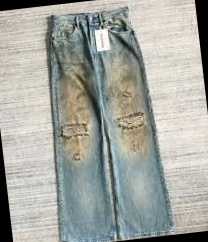earth: (56, 64, 97, 162), (110, 61, 145, 154)
